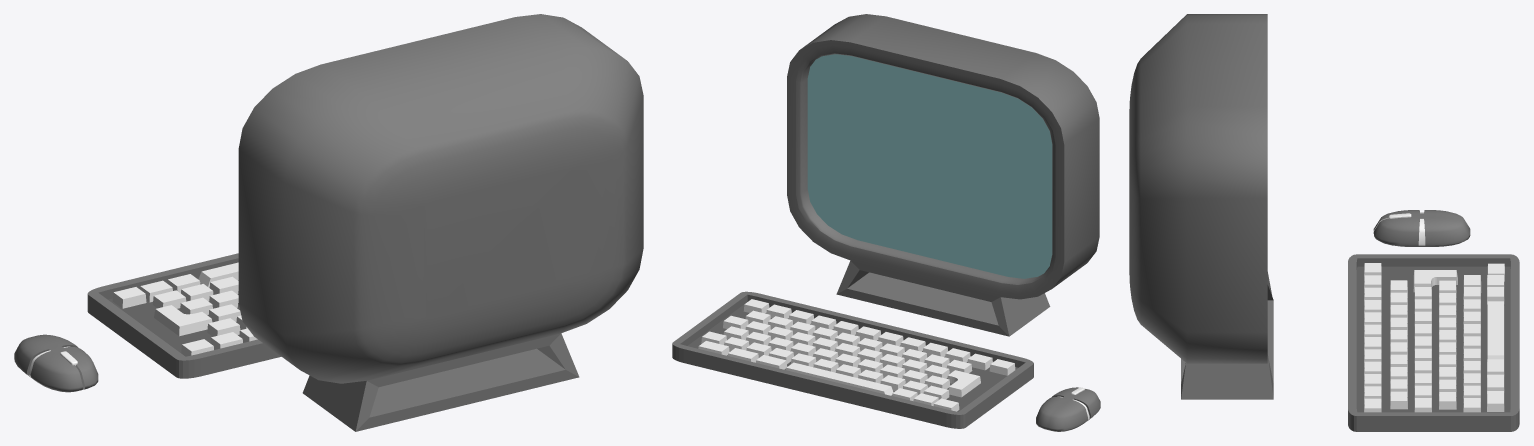
The model's file is Computer.fbx.
3 views of the same model, side by side, from view 1: azimuth 30°, elevation 25°; view 2: azimuth 150°, elevation 25°; view 3: azimuth 270°, elevation 25° (orthographic). The views are drawn at different scales.
Parts seen in each view (by area): view 1: Monitor, Keyboard, Mouse; view 2: Monitor, Keyboard, Mouse; view 3: Monitor, Keyboard, Mouse.
Boxes of the visible parts, bbox=[...] form: Monitor: bbox=[238, 14, 643, 431]; Keyboard: bbox=[87, 253, 281, 378]; Mouse: bbox=[14, 334, 98, 392]; Monitor: bbox=[787, 14, 1099, 336]; Keyboard: bbox=[672, 291, 1033, 428]; Mouse: bbox=[1036, 387, 1100, 431]; Monitor: bbox=[1129, 14, 1273, 399]; Keyboard: bbox=[1348, 254, 1519, 431]; Mouse: bbox=[1373, 210, 1470, 246].
Bounding box in the file's own units: 3.62 × 2.36 × 2.86.
